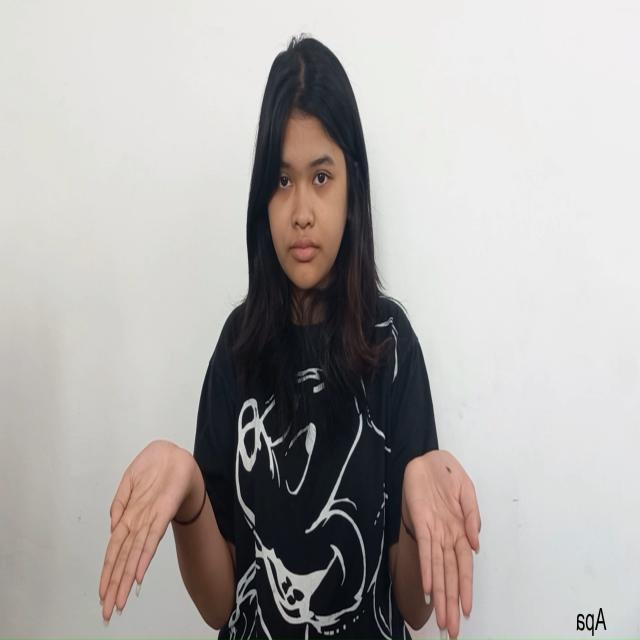Apa -BISINDO-: (96, 437, 482, 640)
